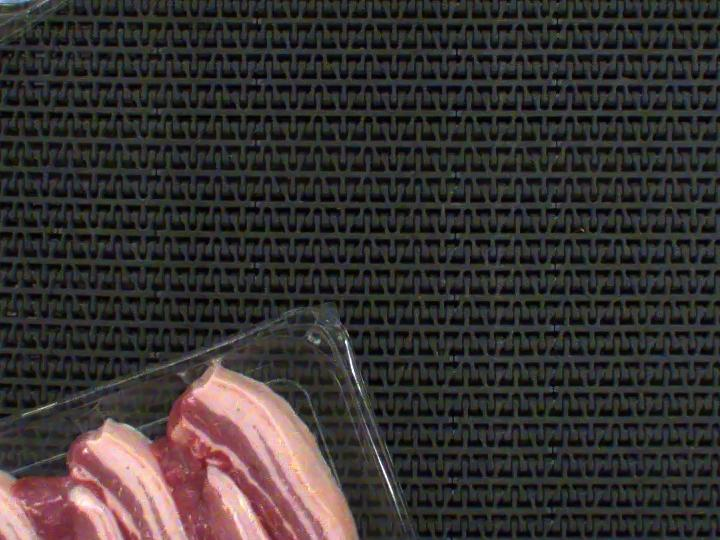packaging-error: (64, 407, 126, 437), (169, 358, 227, 383)
